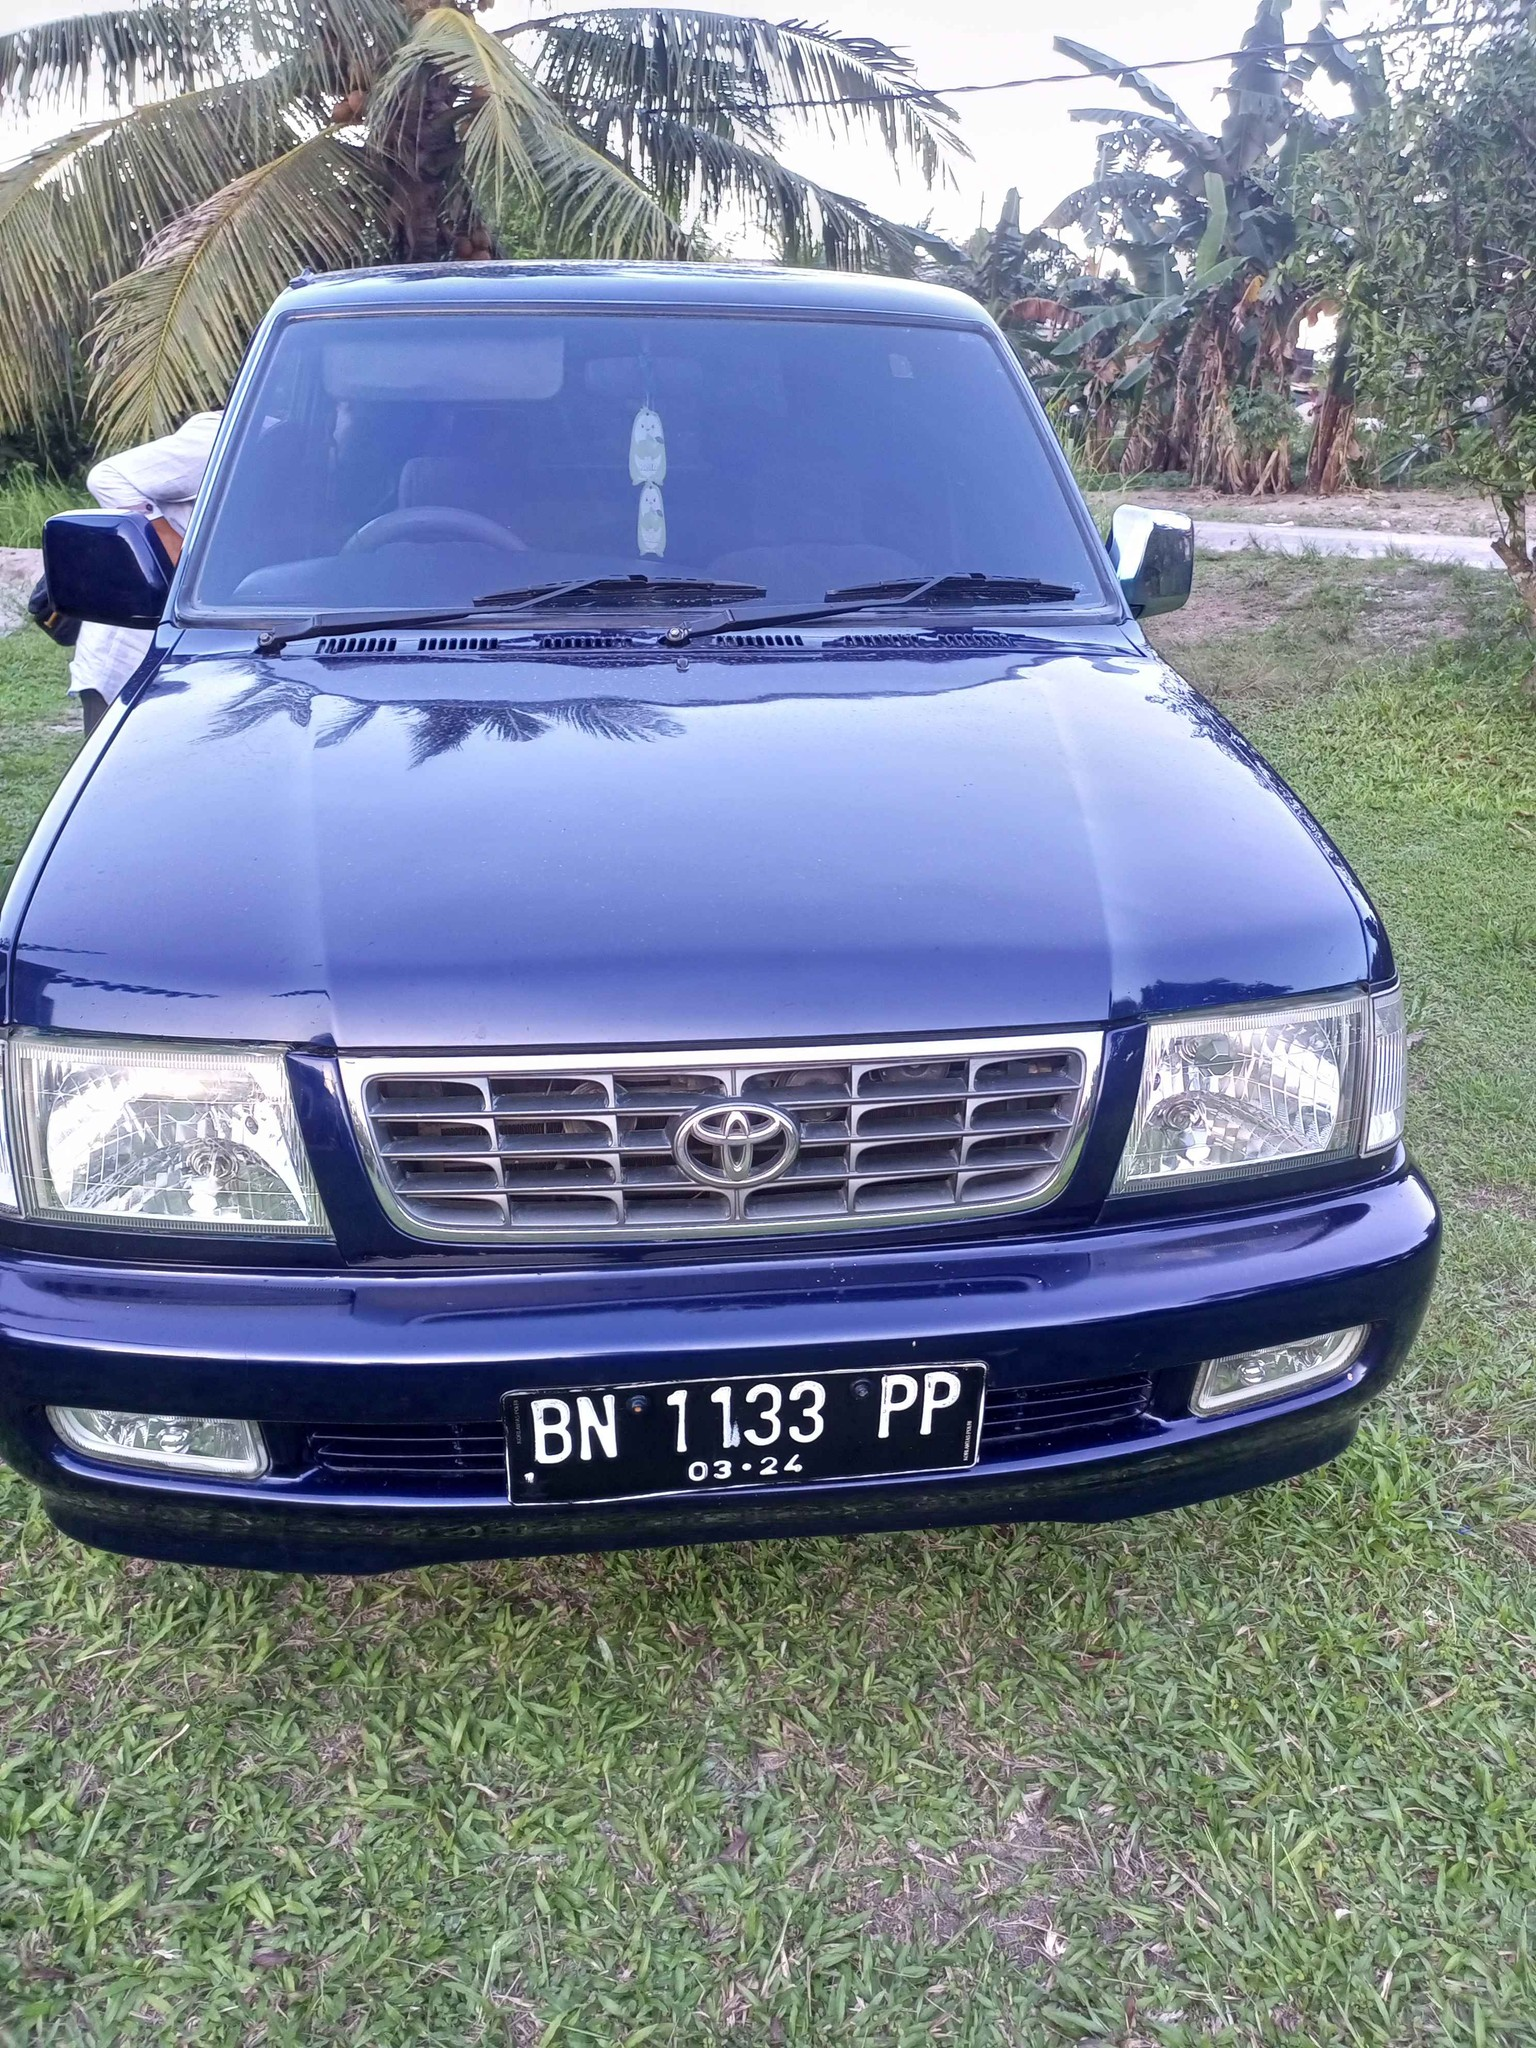plate: (510, 1373, 988, 1502)
